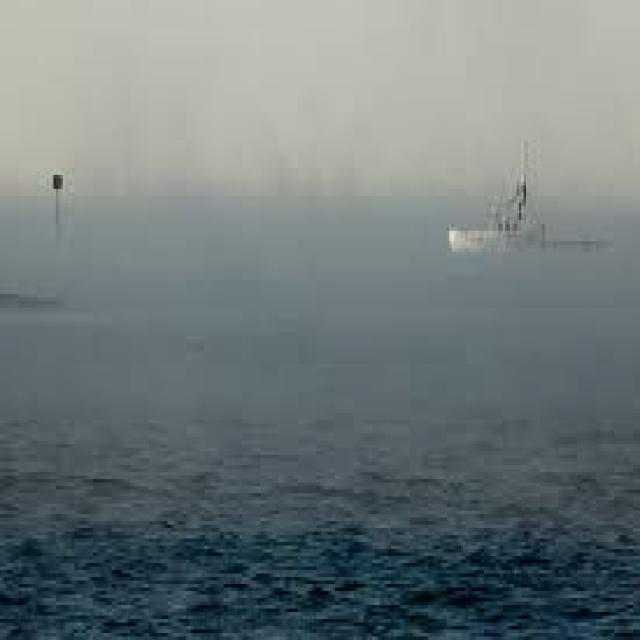passenger ship: (444, 130, 628, 264)
